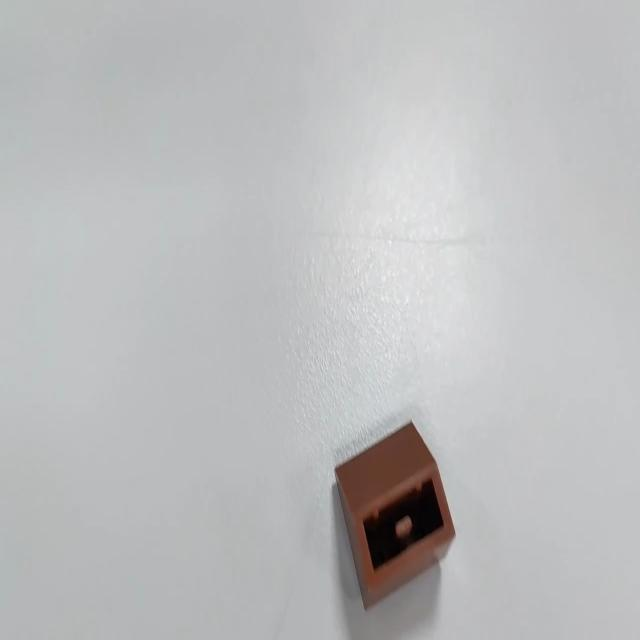X2x2x1: (333, 417, 456, 611)
